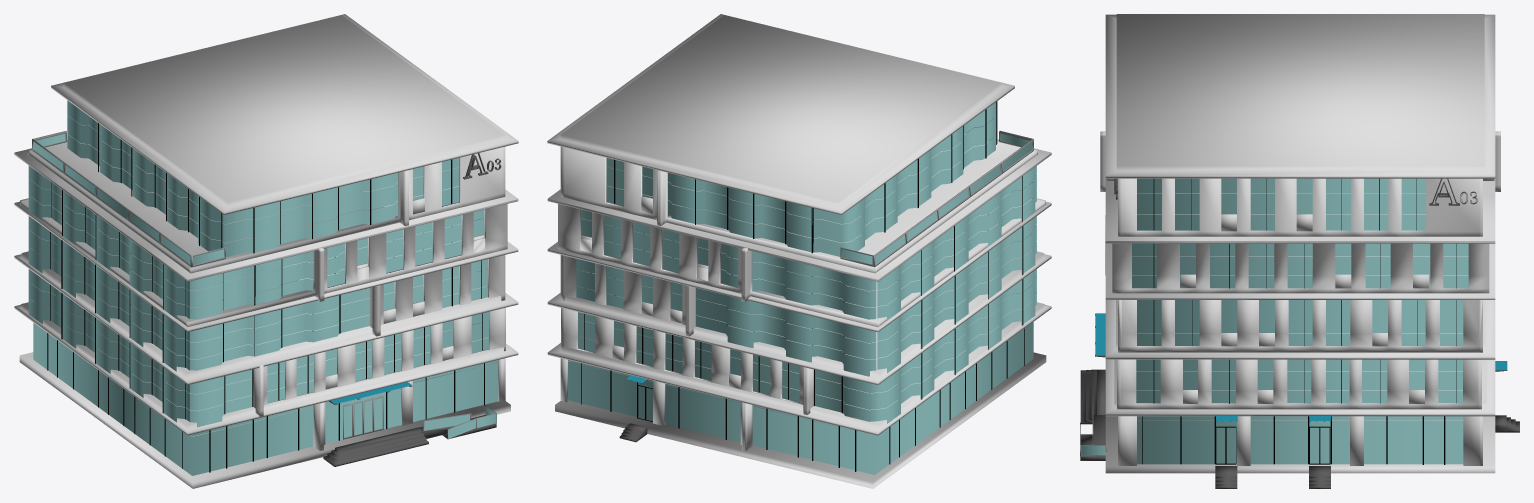
Rendered from build.obj.
The picture shows the model from 3 angles, left to right: view 1: azimuth 30°, elevation 25°; view 2: azimuth 150°, elevation 25°; view 3: azimuth 270°, elevation 25°; orthographic projection. The views are drawn at different scales.
Parts seen in each view (by area): view 1: Box007, Plane014, Plane009, Box015, Plane011, Plane010, Box014, Plane012, Box003, object 37, object 34, object 39 (+17 smaller); view 2: Box007, Plane014, Plane009, Box015, Plane011, Plane010, Box014, Box002, object 37, Plane012, Box003, Box004 (+11 smaller); view 3: Box007, Plane014, Box015, Box014, Box013, Box012, Plane009, Plane010, Plane011, Plane012, Box002, Box006 (+11 smaller).
Boxes of the visible parts, x1,y1,x2,y2 form: Box007: [51, 14, 518, 214]; Plane014: [33, 323, 498, 475]; Plane009: [67, 100, 459, 257]; Box015: [28, 141, 505, 273]; Plane011: [30, 231, 487, 370]; Plane010: [30, 180, 484, 319]; Box014: [20, 193, 507, 326]; Plane012: [30, 283, 489, 427]; Box003: [14, 245, 518, 384]; object 37: [28, 216, 189, 371]; object 34: [28, 165, 189, 318]; object 39: [28, 269, 189, 422]; Box007: [547, 14, 1014, 214]; Plane014: [568, 322, 1033, 474]; Plane009: [606, 101, 997, 256]; Box015: [560, 133, 1037, 273]; Plane011: [576, 225, 1035, 376]; Plane010: [581, 174, 1035, 319]; Box014: [558, 193, 1045, 326]; Box002: [555, 352, 1046, 488]; object 37: [877, 216, 1036, 373]; Plane012: [578, 276, 1036, 421]; Box003: [547, 245, 1051, 384]; Box004: [547, 296, 1051, 435]; Box007: [1105, 14, 1495, 178]; Plane014: [1137, 420, 1463, 464]; Box015: [1106, 178, 1494, 236]; Box014: [1100, 131, 1500, 293]; Box013: [1118, 300, 1482, 352]; Box012: [1105, 215, 1481, 409]; Plane009: [1137, 178, 1425, 230]; Plane010: [1132, 243, 1468, 288]; Plane011: [1137, 300, 1463, 345]; Plane012: [1136, 359, 1462, 403]; Box002: [1105, 416, 1495, 473]; Box006: [1105, 179, 1495, 243].
Size of what is drawn, in the model's own units: 3525 by 2640 by 3409.
